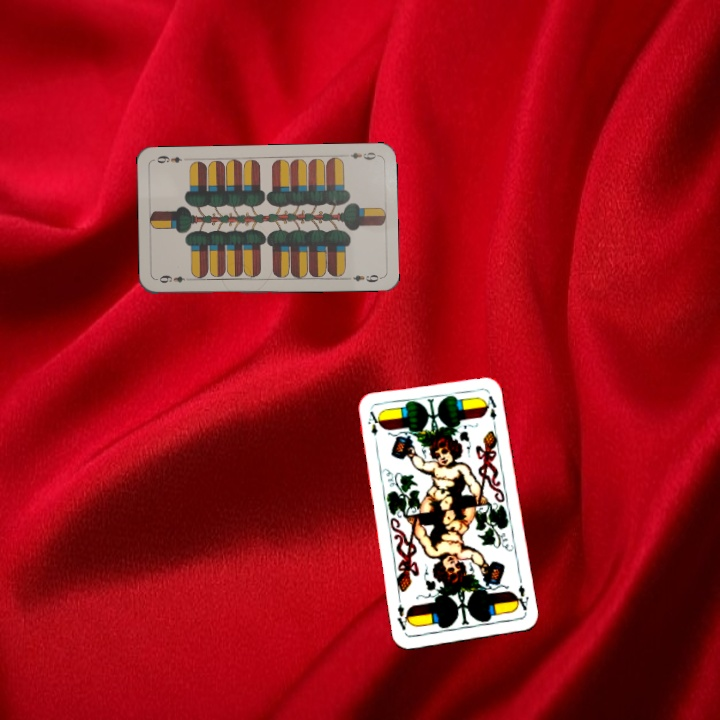E9: (156, 271, 194, 286), (346, 148, 378, 162)
EA: (510, 581, 531, 614), (364, 407, 380, 438)
